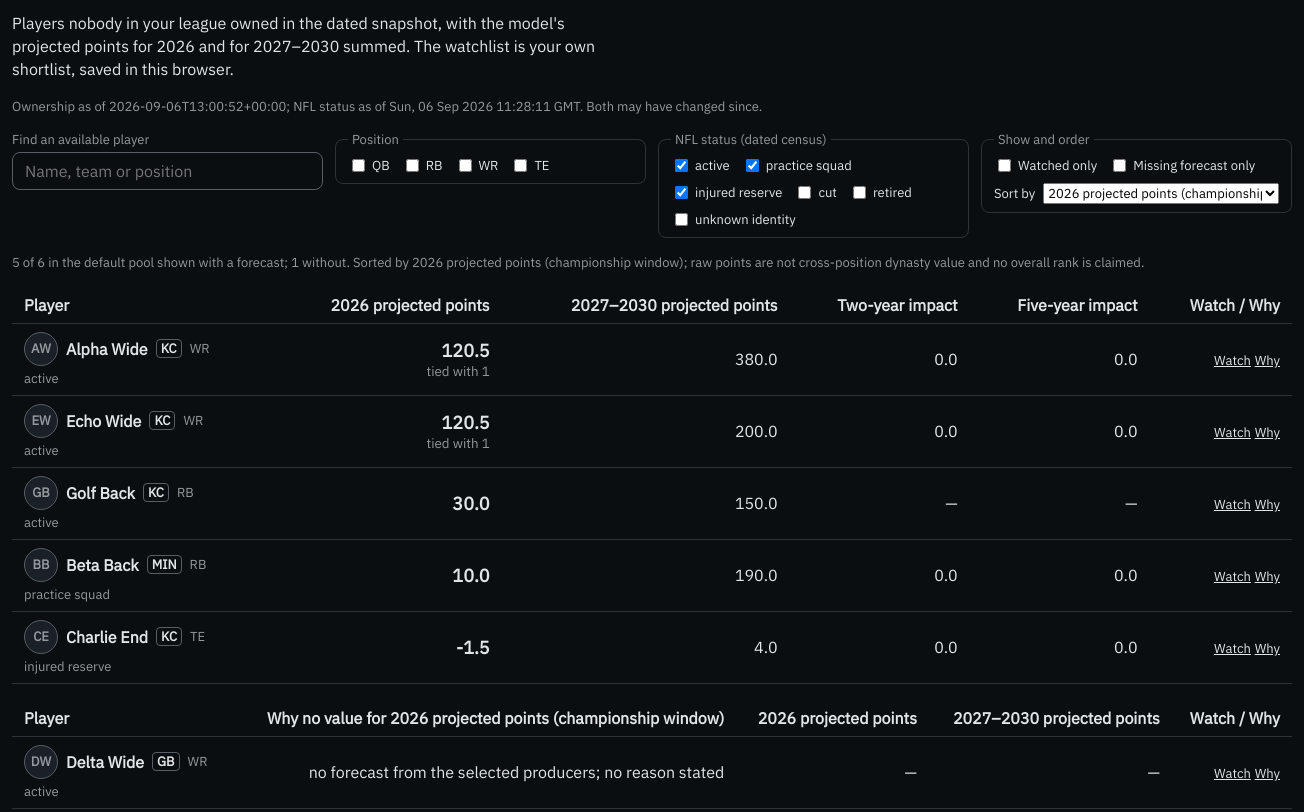
Test case: AvailablePlayers — watched-only keeps an owned player whose status lies outside the unowned classes › lists a watched row that became owned under a special status with the dated changed-status wording, never a forecast or 'available'
Expected: the element named "Available players" is shown, x1=12 y1=287 x2=1292 y2=684
Expected: the text "Austin Ekeler" is not shown
Click the checkbox labelled "Watched only" at (1004, 165), box x1=998 y1=159 x2=1011 y2=172
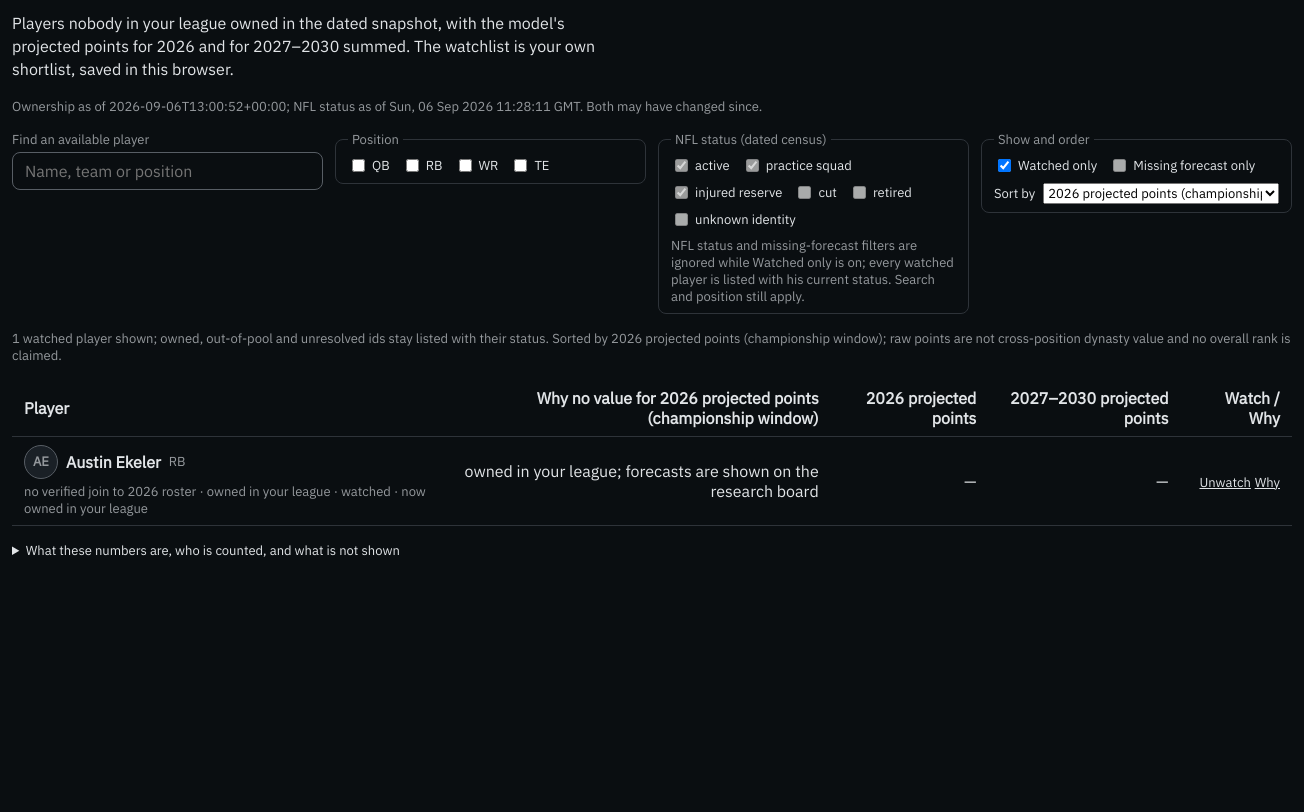
Expected: the text "Austin Ekeler" is shown, x1=66 y1=452 x2=161 y2=472
Expected: the text "no verified join to 2026 roster · owned in your league · watched · now owned in your league" is shown, x1=24 y1=483 x2=436 y2=517
Expected: the text "1 watched player shown" is shown, x1=12 y1=330 x2=549 y2=347
# search and position still narrow the shortlist
Click the checkbox labelled "QB" at (358, 165), box x1=352 y1=159 x2=365 y2=172
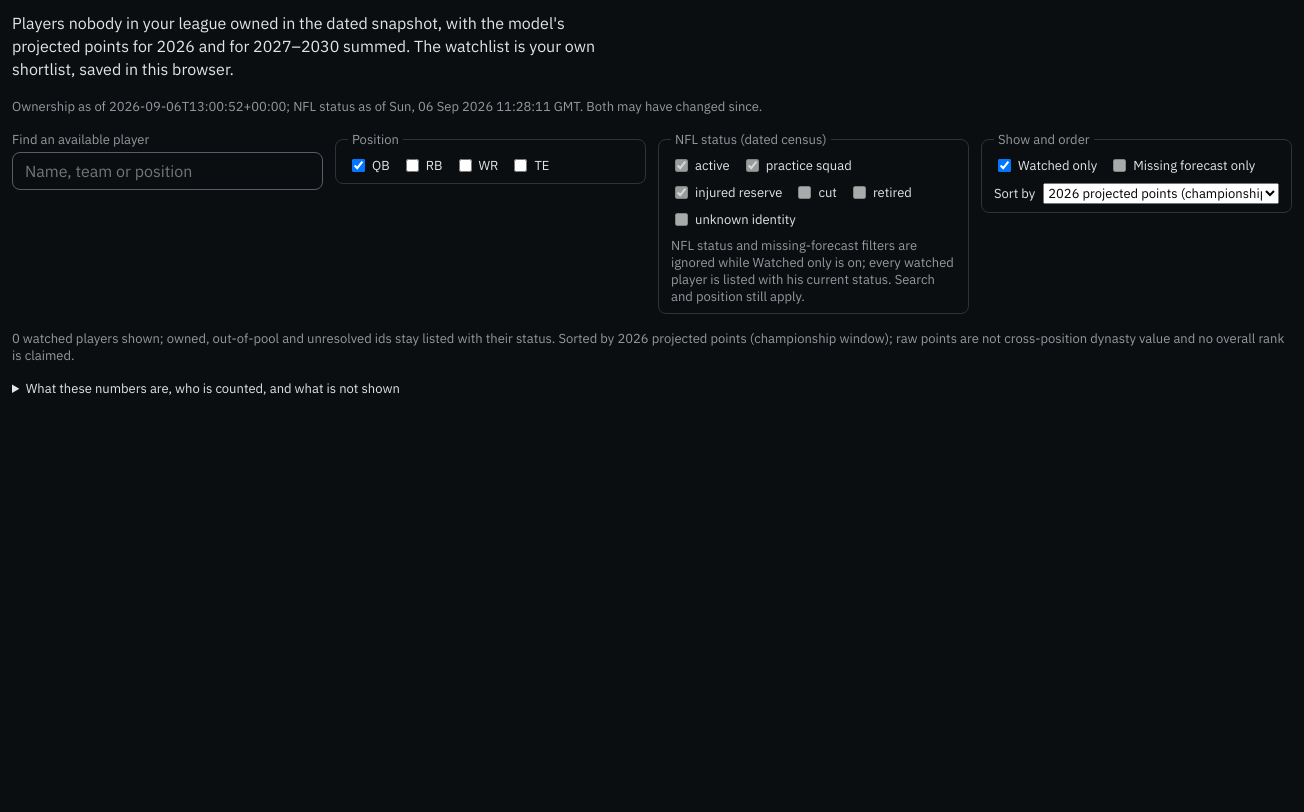
Expected: the text "Austin Ekeler" is gone
Expected: the text "0 watched players shown" is shown, x1=12 y1=330 x2=555 y2=347
